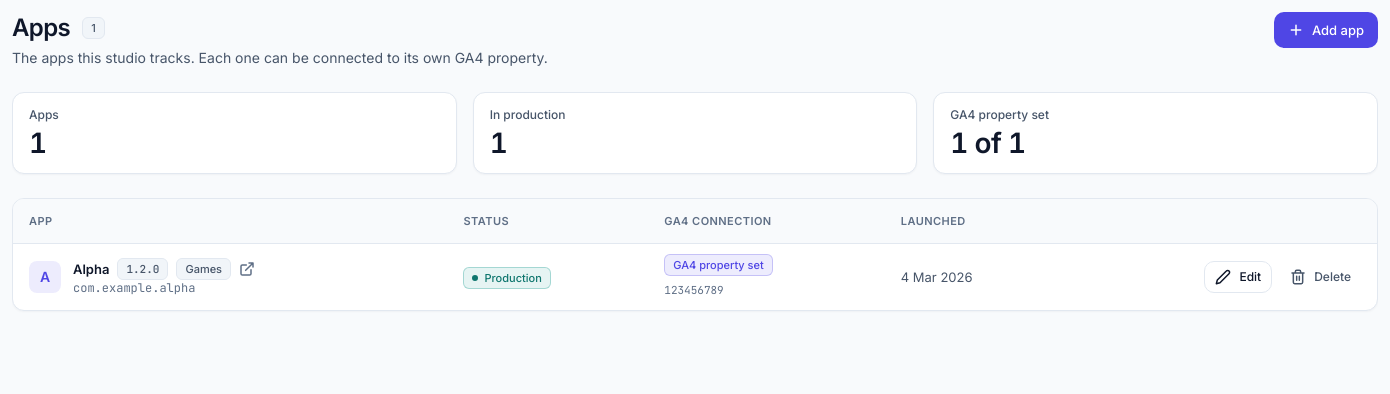
Test: AppsPage for an admin › deleting an app › shows the server's reason when a delete is refused, and keeps the app
The width and height of the screenshot is (1390, 394).
What coordinates should you click on to do the following:
click the button with aria-label "Delete Alpha"
I would click on:
 (1321, 277)
Its box is [1280, 261, 1361, 293].
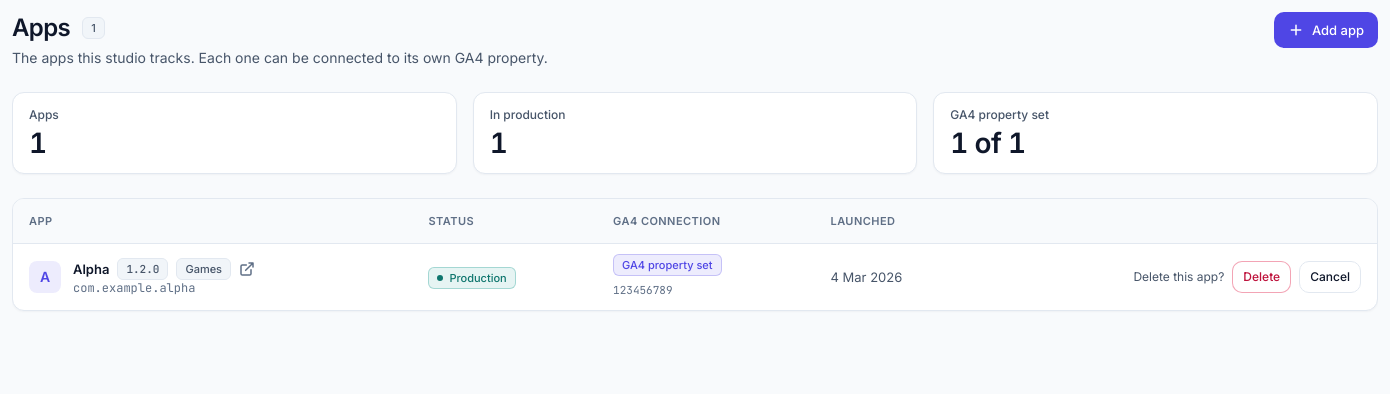
What coordinates should you click on to do the following:
click the button with aria-label "Confirm delete Alpha"
I would click on:
 (1262, 277)
Its box is [1232, 261, 1291, 293].
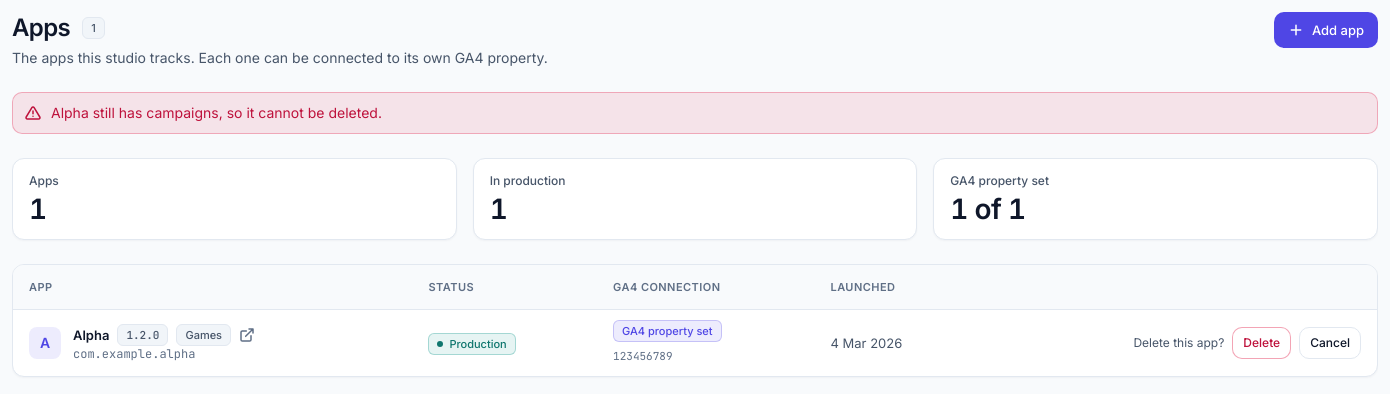
Expected: the row "Alpha" is shown, [13, 310, 1377, 376]
Result: the message reads "Alpha still has campaigns, so it cannot be deleted." at [51, 104, 382, 121]
